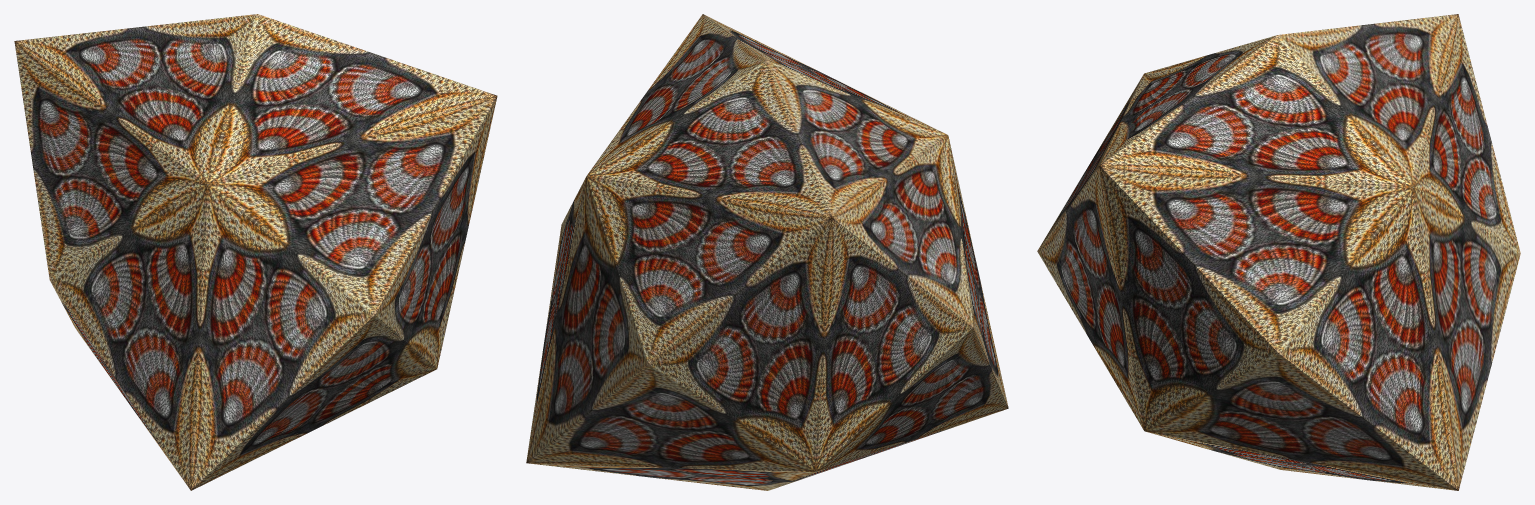
Rendered from HexakisTetrahedron14.obj.
3 views of the same model, side by side, from view 1: azimuth 30°, elevation 25°; view 2: azimuth 150°, elevation 25°; view 3: azimuth 270°, elevation 25° (orthographic).
Bounding box in the file's own units: 9.9 × 9.85 × 9.9.
Materials: 1 (1 with a texture image).
